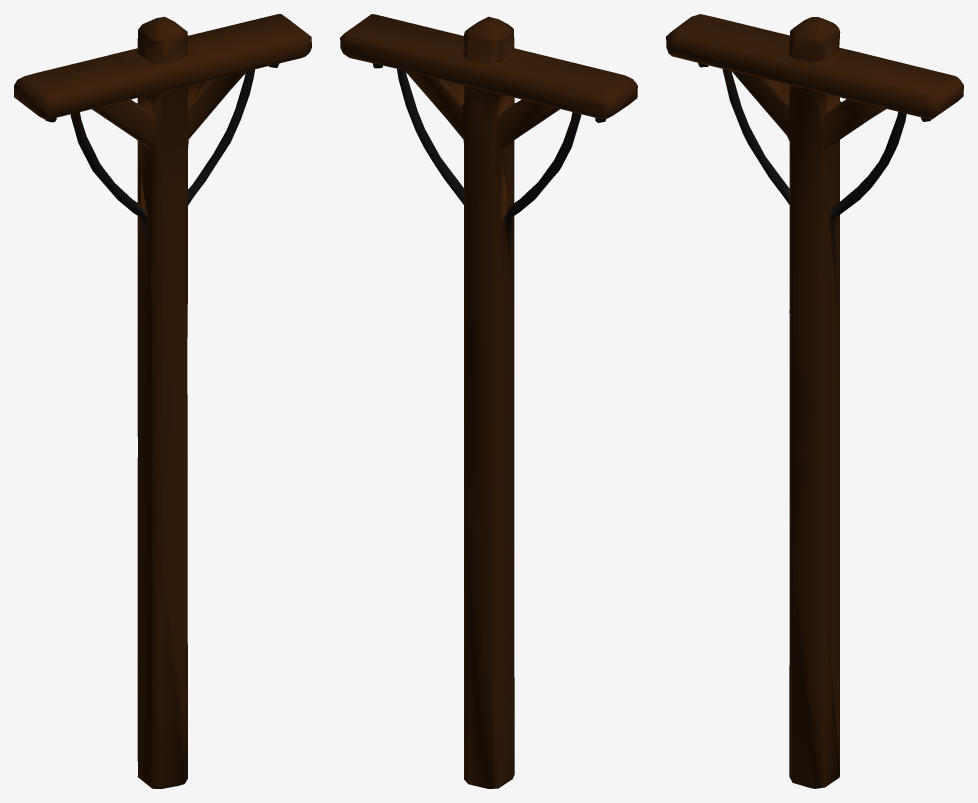
Rendered from gen3d-telephone-pole-lod1.glb.
3 views of the same model, side by side, from view 1: azimuth 30°, elevation 25°; view 2: azimuth 150°, elevation 25°; view 3: azimuth 330°, elevation 25° (orthographic).
Visible parts, largest first — view 1: part_0; view 2: part_0; view 3: part_0.
Boxes of the visible parts, x1=… form: part_0: x1=14, y1=14, x2=311, y2=788; part_0: x1=340, y1=14, x2=637, y2=788; part_0: x1=666, y1=14, x2=963, y2=788.
Bounding box in the file's own units: 0.377 × 0.9992 × 0.0773.
